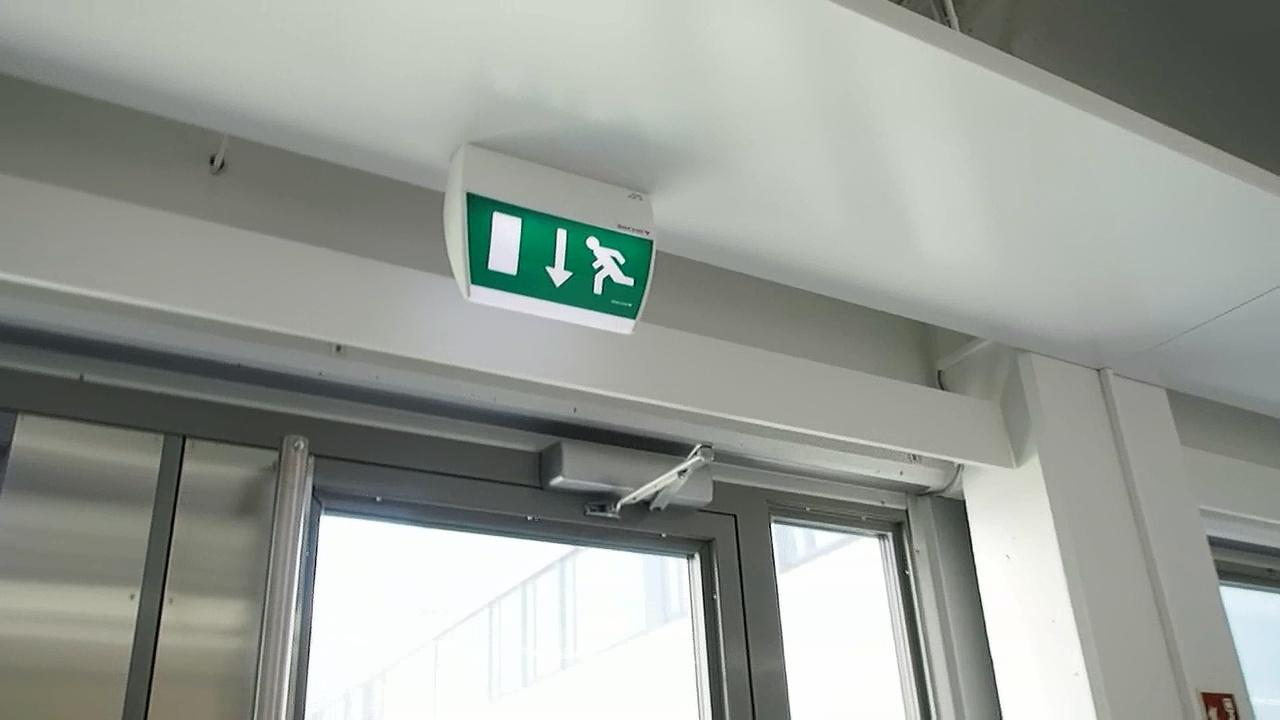exit: (455, 200, 664, 310)
